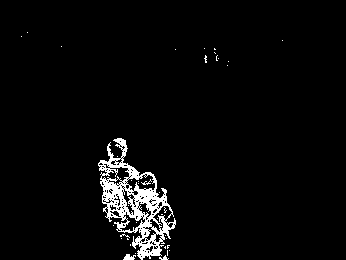person: (98, 135, 142, 251), (124, 168, 176, 260)
